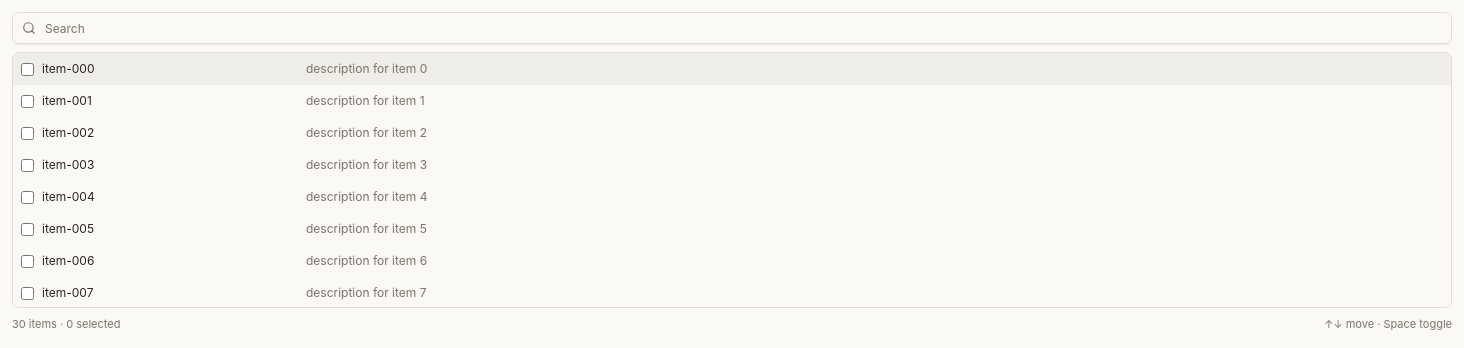
Test: EntityPicker selection › reports when a search matches nothing rather than showing a blank box
Type "zzzznope" into the field with placeholder "Search".
click(732, 28); type("zzzznope")  # box [12,12,1452,44]
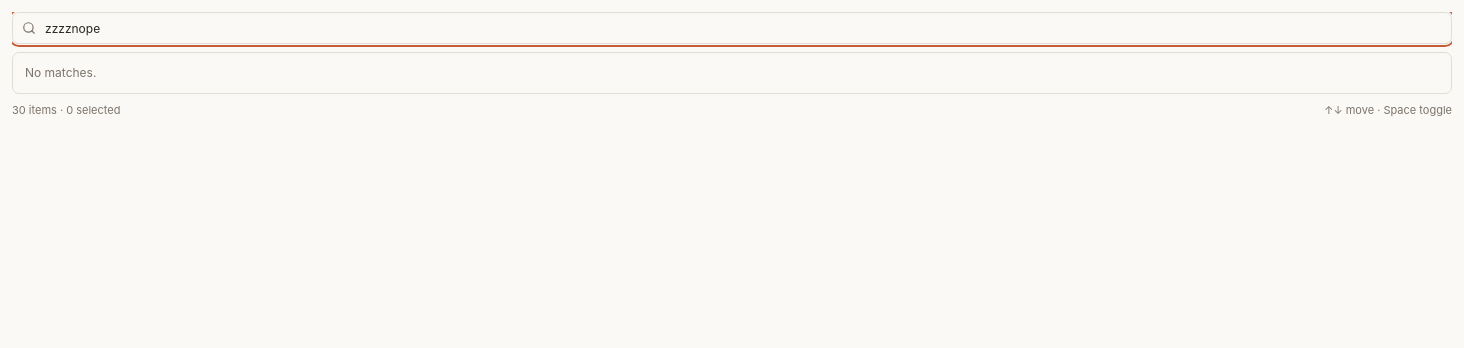
Check: the text "No matches." is shown, box [25,65,96,80]
